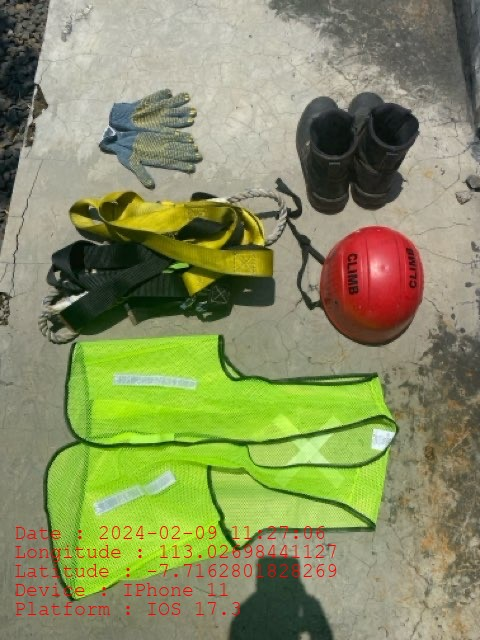HELM: (320, 226, 425, 343)
SARUNG_TANGAN: (98, 131, 202, 187), (108, 87, 196, 131)
SEPATU: (295, 92, 417, 214)
